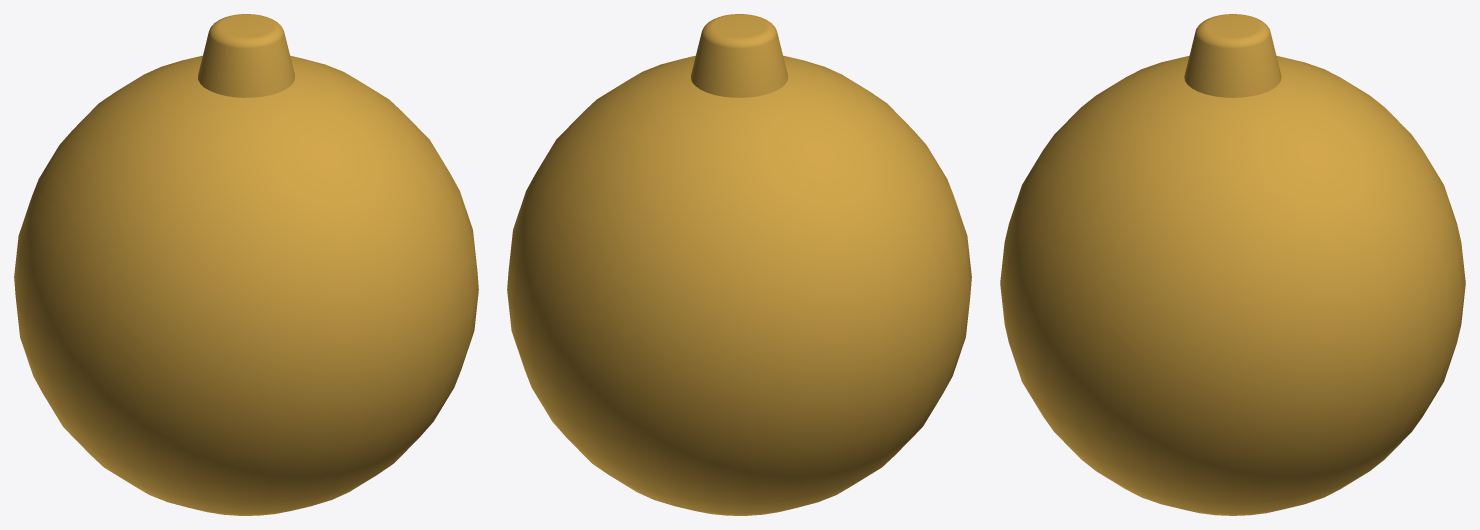
Rendered from ornament_gold.gltf.
3 views of the same model, side by side, from view 1: azimuth 30°, elevation 25°; view 2: azimuth 150°, elevation 25°; view 3: azimuth 270°, elevation 25° (orthographic).
Visible parts, largest first — view 1: ornament_gold; view 2: ornament_gold; view 3: ornament_gold.
Boxes of the visible parts, x1=… form: ornament_gold: x1=14, y1=14, x2=478, y2=515; ornament_gold: x1=507, y1=14, x2=971, y2=515; ornament_gold: x1=1000, y1=14, x2=1465, y2=515.
Size of the model in its own units: 1.96 by 2.17 by 1.96.
